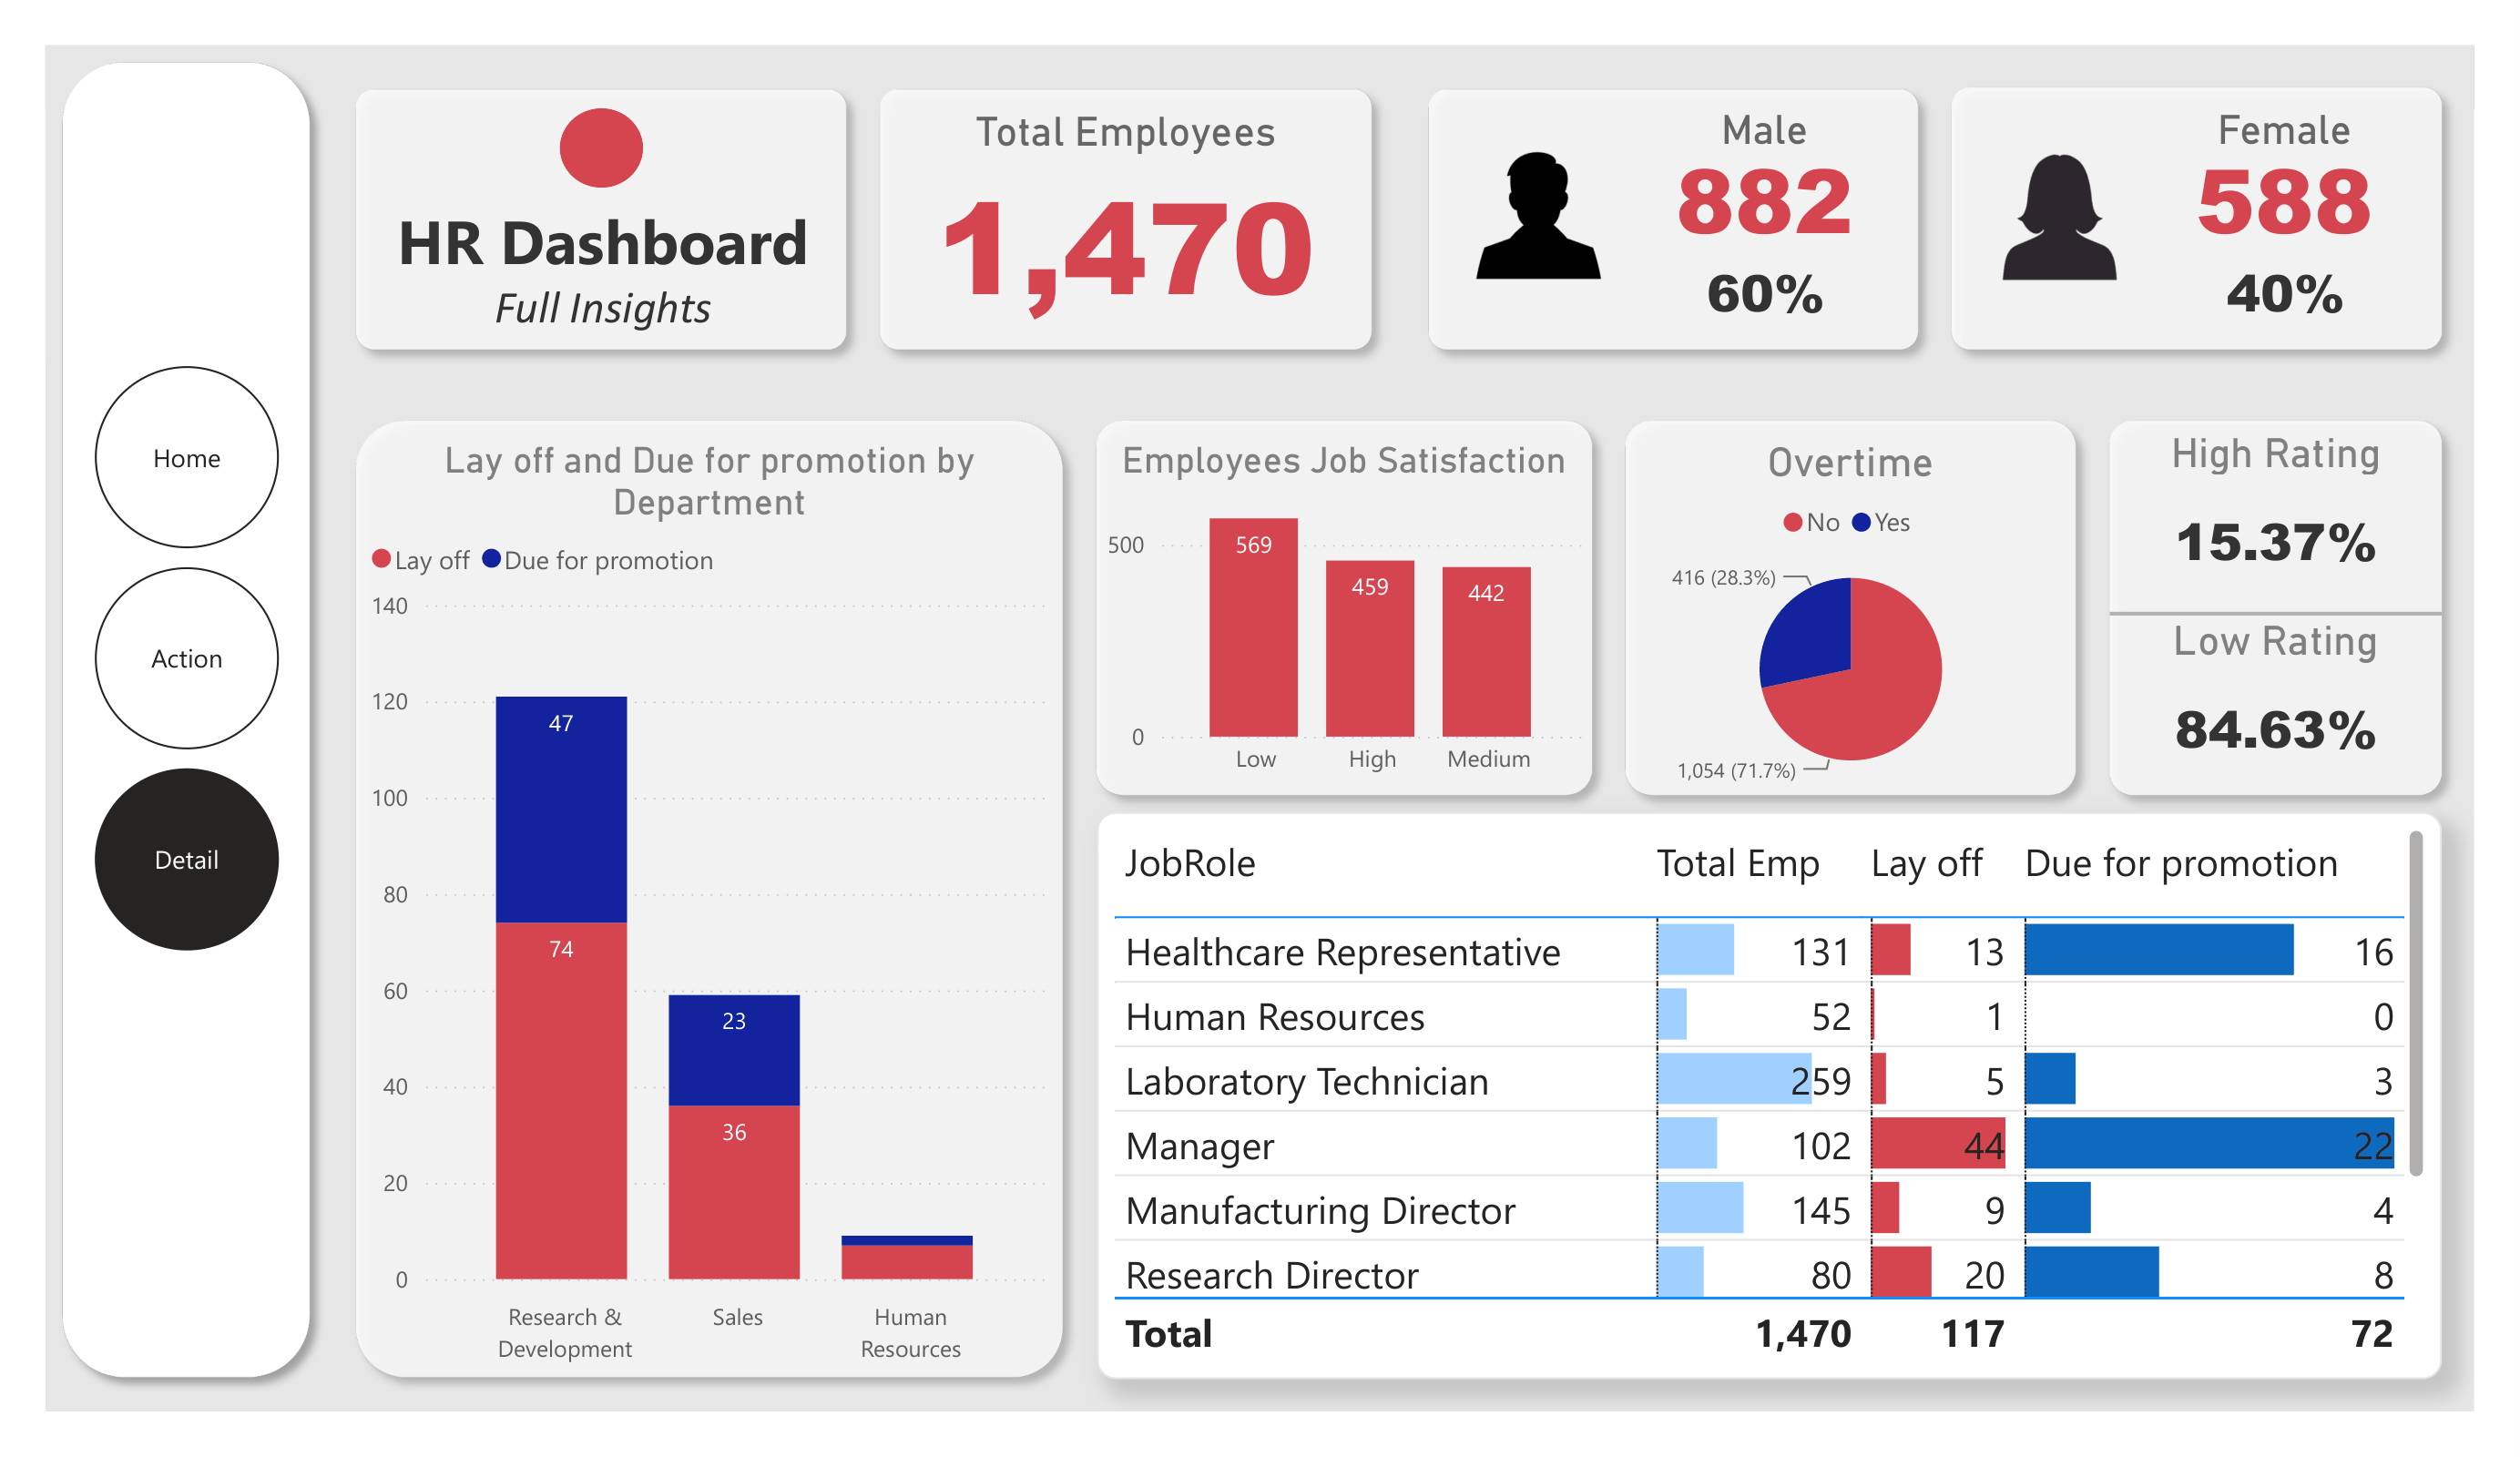

The page's visual inventory and layout, read from the dashboard file:
{"tool":"powerbi","page":{"name":"Detail","canvas":[1280,720],"ordinal":2},"visuals":[{"type":"shape","box":[0,0,147.5,711.2],"z":0},{"type":"shape","box":[155,13.8,276.2,155],"z":1000},{"type":"shape","box":[431.2,13.8,276.2,155],"z":2000},{"type":"shape","box":[720,13.8,276.2,155],"z":3000},{"type":"shape","box":[995.9,13.1,276.1,155.6],"z":4000},{"type":"textbox","box":[163.8,75,260,57.5],"z":5000},{"type":"textbox","box":[163.8,117.5,260,51.2],"z":6000},{"type":"shape","box":[271.2,32.5,43.8,42.5],"z":7000},{"type":"cardVisual","title":"Total Employees","fields":{"Data":["All Measures.Total Emp"]},"box":[451.2,32.5,236.2,118.8],"z":8000},{"type":"cardVisual","title":"Male","fields":{"Data":["All Measures.Male"]},"box":[832.7,31.8,146.8,72.3],"z":9000},{"type":"cardVisual","title":"Male","fields":{"Data":["All Measures.% male"]},"box":[857.9,104.1,97.5,43.8],"z":10000},{"type":"cardVisual","title":"Female","fields":{"Data":["All Measures.Female"]},"box":[1106.6,31.8,146.8,72.3],"z":11000},{"type":"cardVisual","title":"Male","fields":{"Data":["All Measures.% female"]},"box":[1131.8,104.1,97.5,43.8],"z":12000},{"type":"image","box":[719.8,31.8,133.7,116.1],"z":13000},{"type":"image","box":[990.4,27.4,141.3,127.1],"z":14000},{"type":"shape","box":[154.8,189.4,390.3,522.1],"z":15000},{"type":"columnChart","fields":{"Category":["HR Analytics Data.Department"],"Y":["All Measures.Lay off","All Measures.Due for promotion"]},"box":[166.4,202.2,367.3,500.3],"z":16000},{"type":"shape","box":[545.1,189.4,279,215],"z":17000},{"type":"shape","box":[824.1,189.4,254.6,215],"z":18000},{"type":"shape","box":[1078.7,189.4,193.2,215],"z":19000},{"type":"shape","box":[1087.7,293,175.3,12.8],"z":20000},{"type":"columnChart","title":"Employees Job Satisfaction","fields":{"Category":["HR Analytics Data.Job satisfaction"],"Y":["All Measures.Total Emp"]},"box":[554.1,202.2,261,193.2],"z":21000},{"type":"pieChart","title":"Overtime","fields":{"Category":["HR Analytics Data.OverTime"],"Y":["All Measures.Total Emp"]},"box":[833,202.2,236.7,193.2],"z":22000},{"type":"tableEx","fields":{"Values":["HR Analytics Data.JobRole","All Measures.Total Emp","All Measures.Lay off","All Measures.Due for promotion"]},"box":[554.1,404.4,708.9,298.2],"z":23000},{"type":"cardVisual","title":"High Rating","fields":{"Data":["All Measures.% High emp rating"]},"box":[1087.7,202.2,175.3,90.9],"z":24000},{"type":"cardVisual","title":"Low Rating","fields":{"Data":["All Measures.% Low emp rating"]},"box":[1087.7,300.7,175.3,90.9],"z":25000},{"type":"pageNavigator","box":[25.6,168.9,97.3,309.7],"z":25001}]}

Visuals, with their boxes on the page's 1280x720 design canvas (x1, y1, x2, y2). These are canvas units, not pixel positions in the 2520x1457 screenshot, which may show the page scaled, cropped or inside an application window:
shape: (0,0,148,711)
shape: (155,14,431,169)
shape: (431,14,707,169)
shape: (720,14,996,169)
shape: (996,13,1272,169)
textbox: (164,75,424,132)
textbox: (164,118,424,169)
shape: (271,32,315,75)
"Total Employees" cardVisual: (451,32,687,151)
"Male" cardVisual: (833,32,980,104)
"Male" cardVisual: (858,104,955,148)
"Female" cardVisual: (1107,32,1253,104)
"Male" cardVisual: (1132,104,1229,148)
image: (720,32,854,148)
image: (990,27,1132,154)
shape: (155,189,545,712)
columnChart - HR Analytics Data.Department x All Measures.Lay off: (166,202,534,702)
shape: (545,189,824,404)
shape: (824,189,1079,404)
shape: (1079,189,1272,404)
shape: (1088,293,1263,306)
"Employees Job Satisfaction" columnChart: (554,202,815,395)
"Overtime" pieChart: (833,202,1070,395)
tableEx - HR Analytics Data.JobRole x All Measures.Total Emp: (554,404,1263,703)
"High Rating" cardVisual: (1088,202,1263,293)
"Low Rating" cardVisual: (1088,301,1263,392)
pageNavigator: (26,169,123,479)
